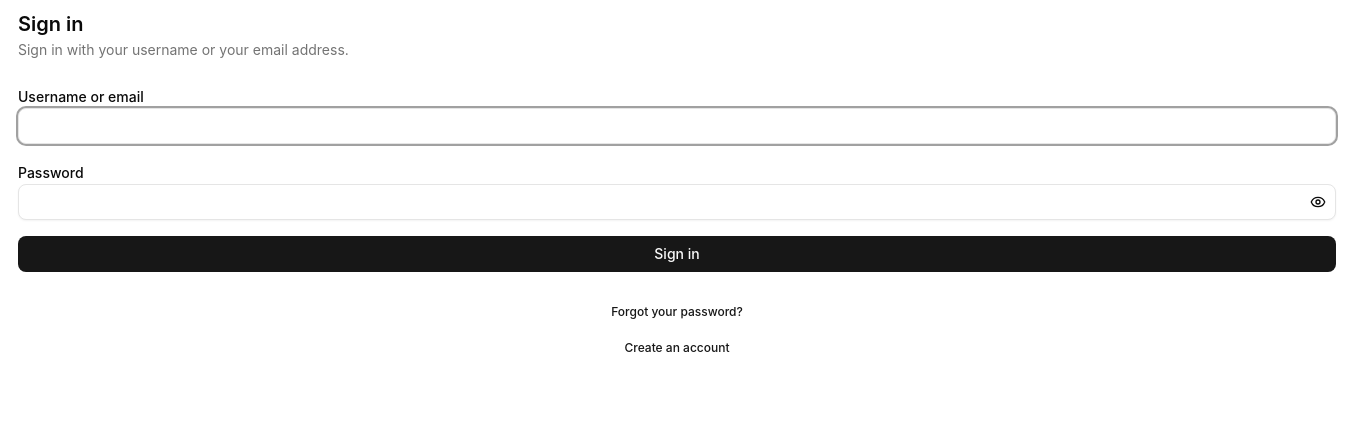
shows that the account is suspended
In the field labelled "Username or email": (677, 126) [18,108,1336,144], type "jane"
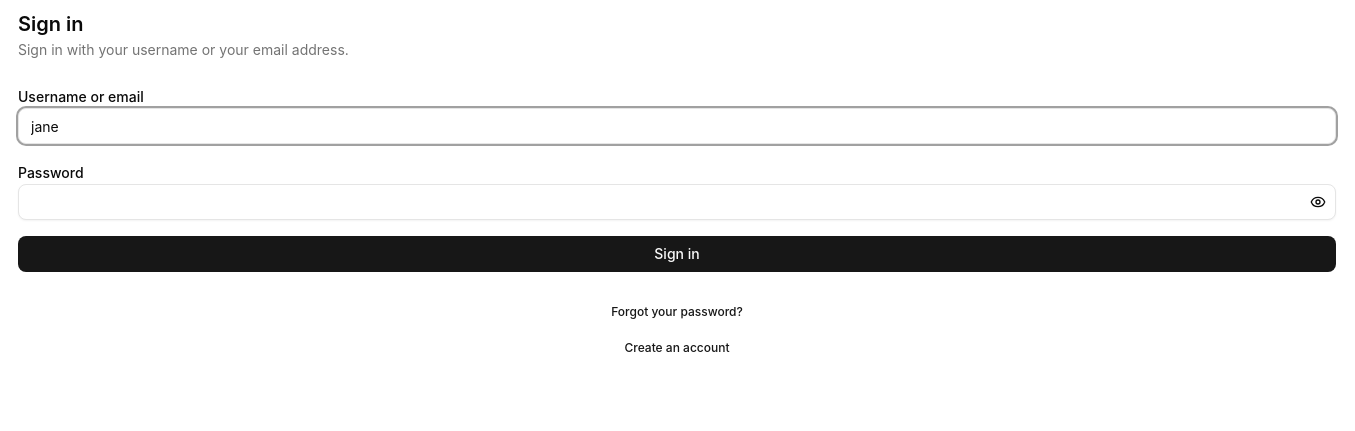
In the password field labelled "Password": (677, 202) [18,184,1336,220], type "a-long-enough-password"
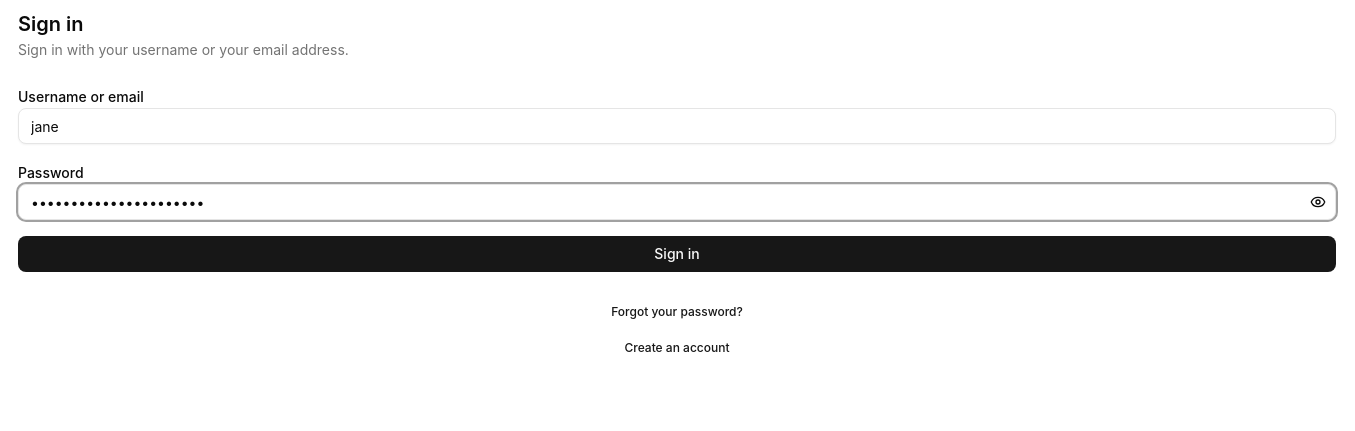
Click the button "Sign in": click(677, 254) [18,236,1336,272]
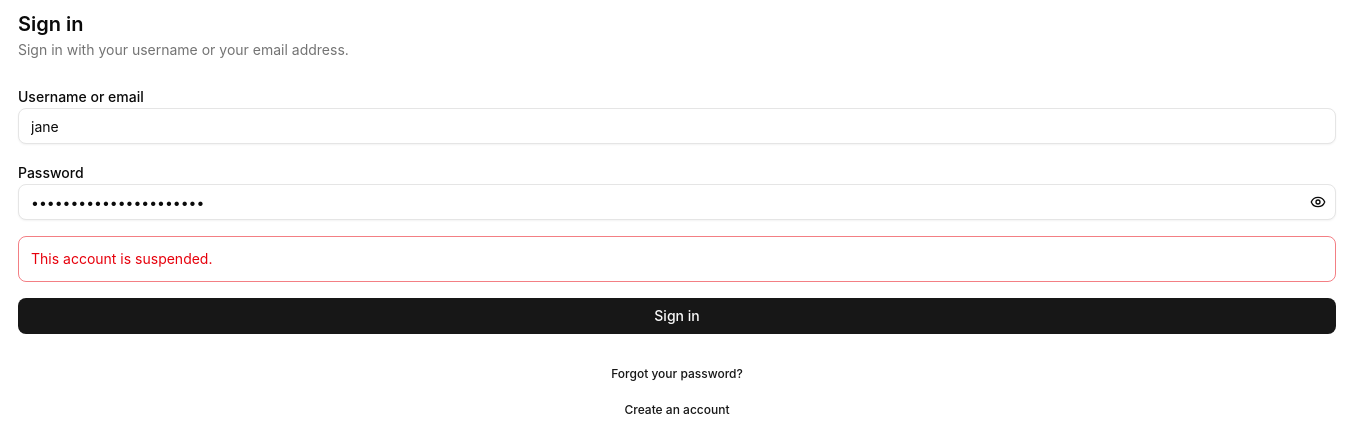
Now the message reads "This account is suspended.", box [31,250,212,267]
